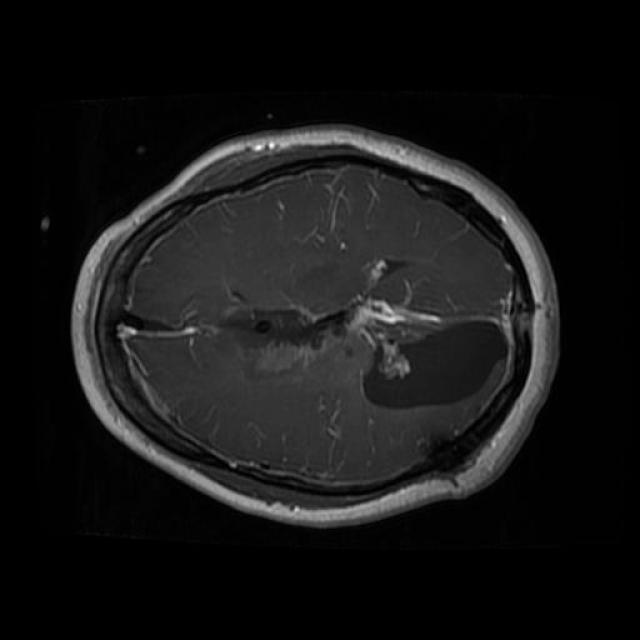Glioma: (364, 323, 506, 408)
